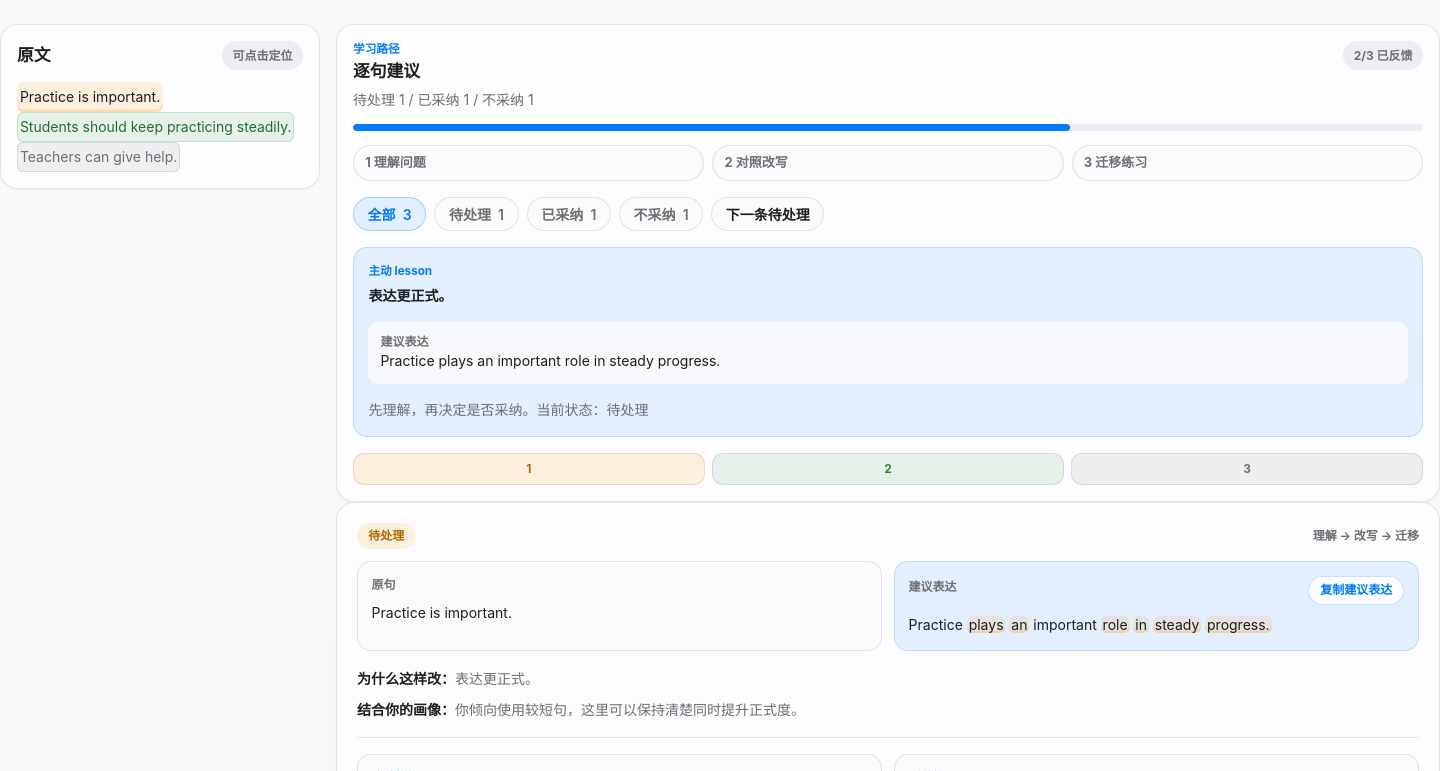
Test: InteractiveEssayReview › activates suggestions from the compact suggestion navigator
The image size is (1440, 771).
Click the button named "定位建议 2，已采纳": [888, 469] box top-left (712, 453), bottom-right (1064, 485)
(page scrolled)
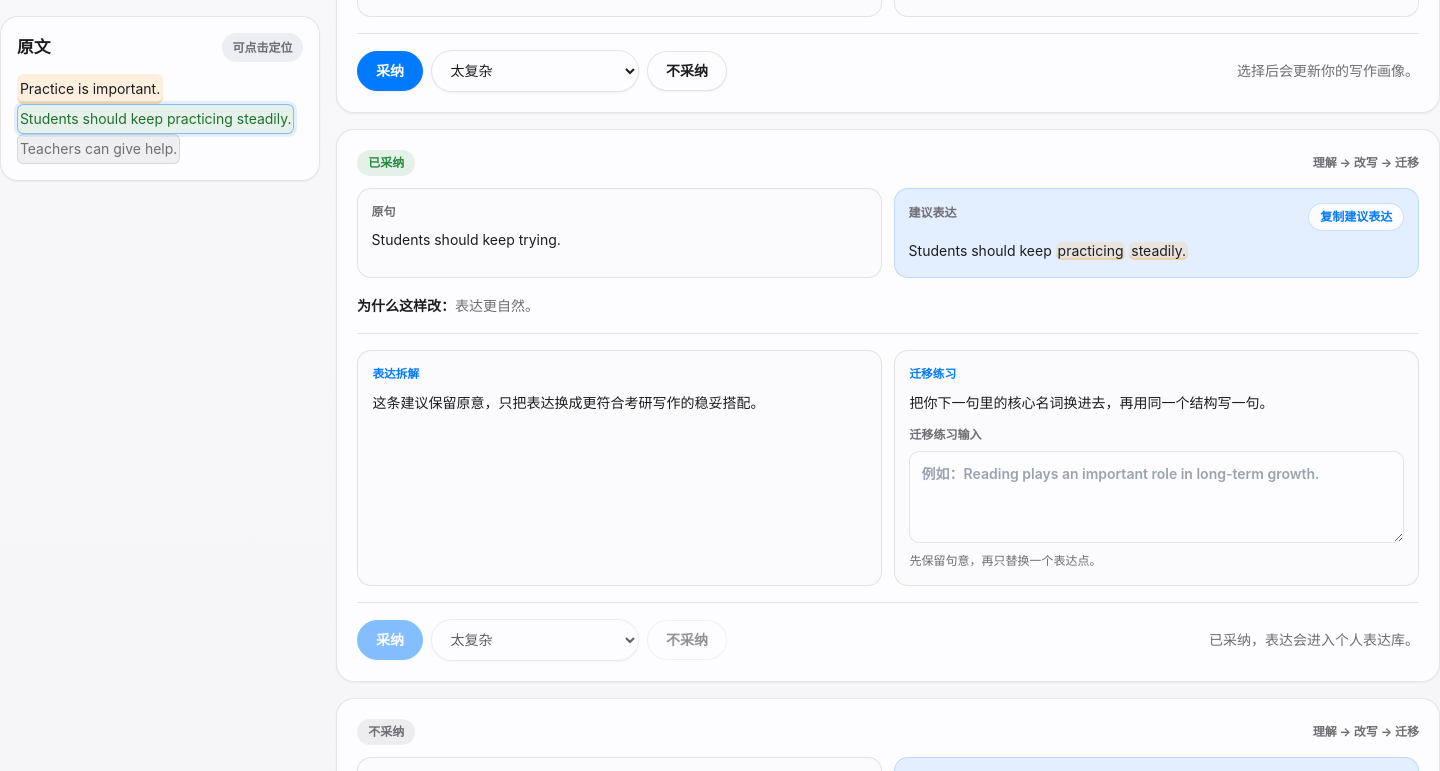
Result: the element with test id "review-suggestion-card-suggestion-2" has class "review-suggestion-active" at top-left (336, 129), bottom-right (1439, 682)
Result: the button with test id "review-sentence-suggestion-2" has class "review-sentence-active" at top-left (17, 104), bottom-right (294, 134)
